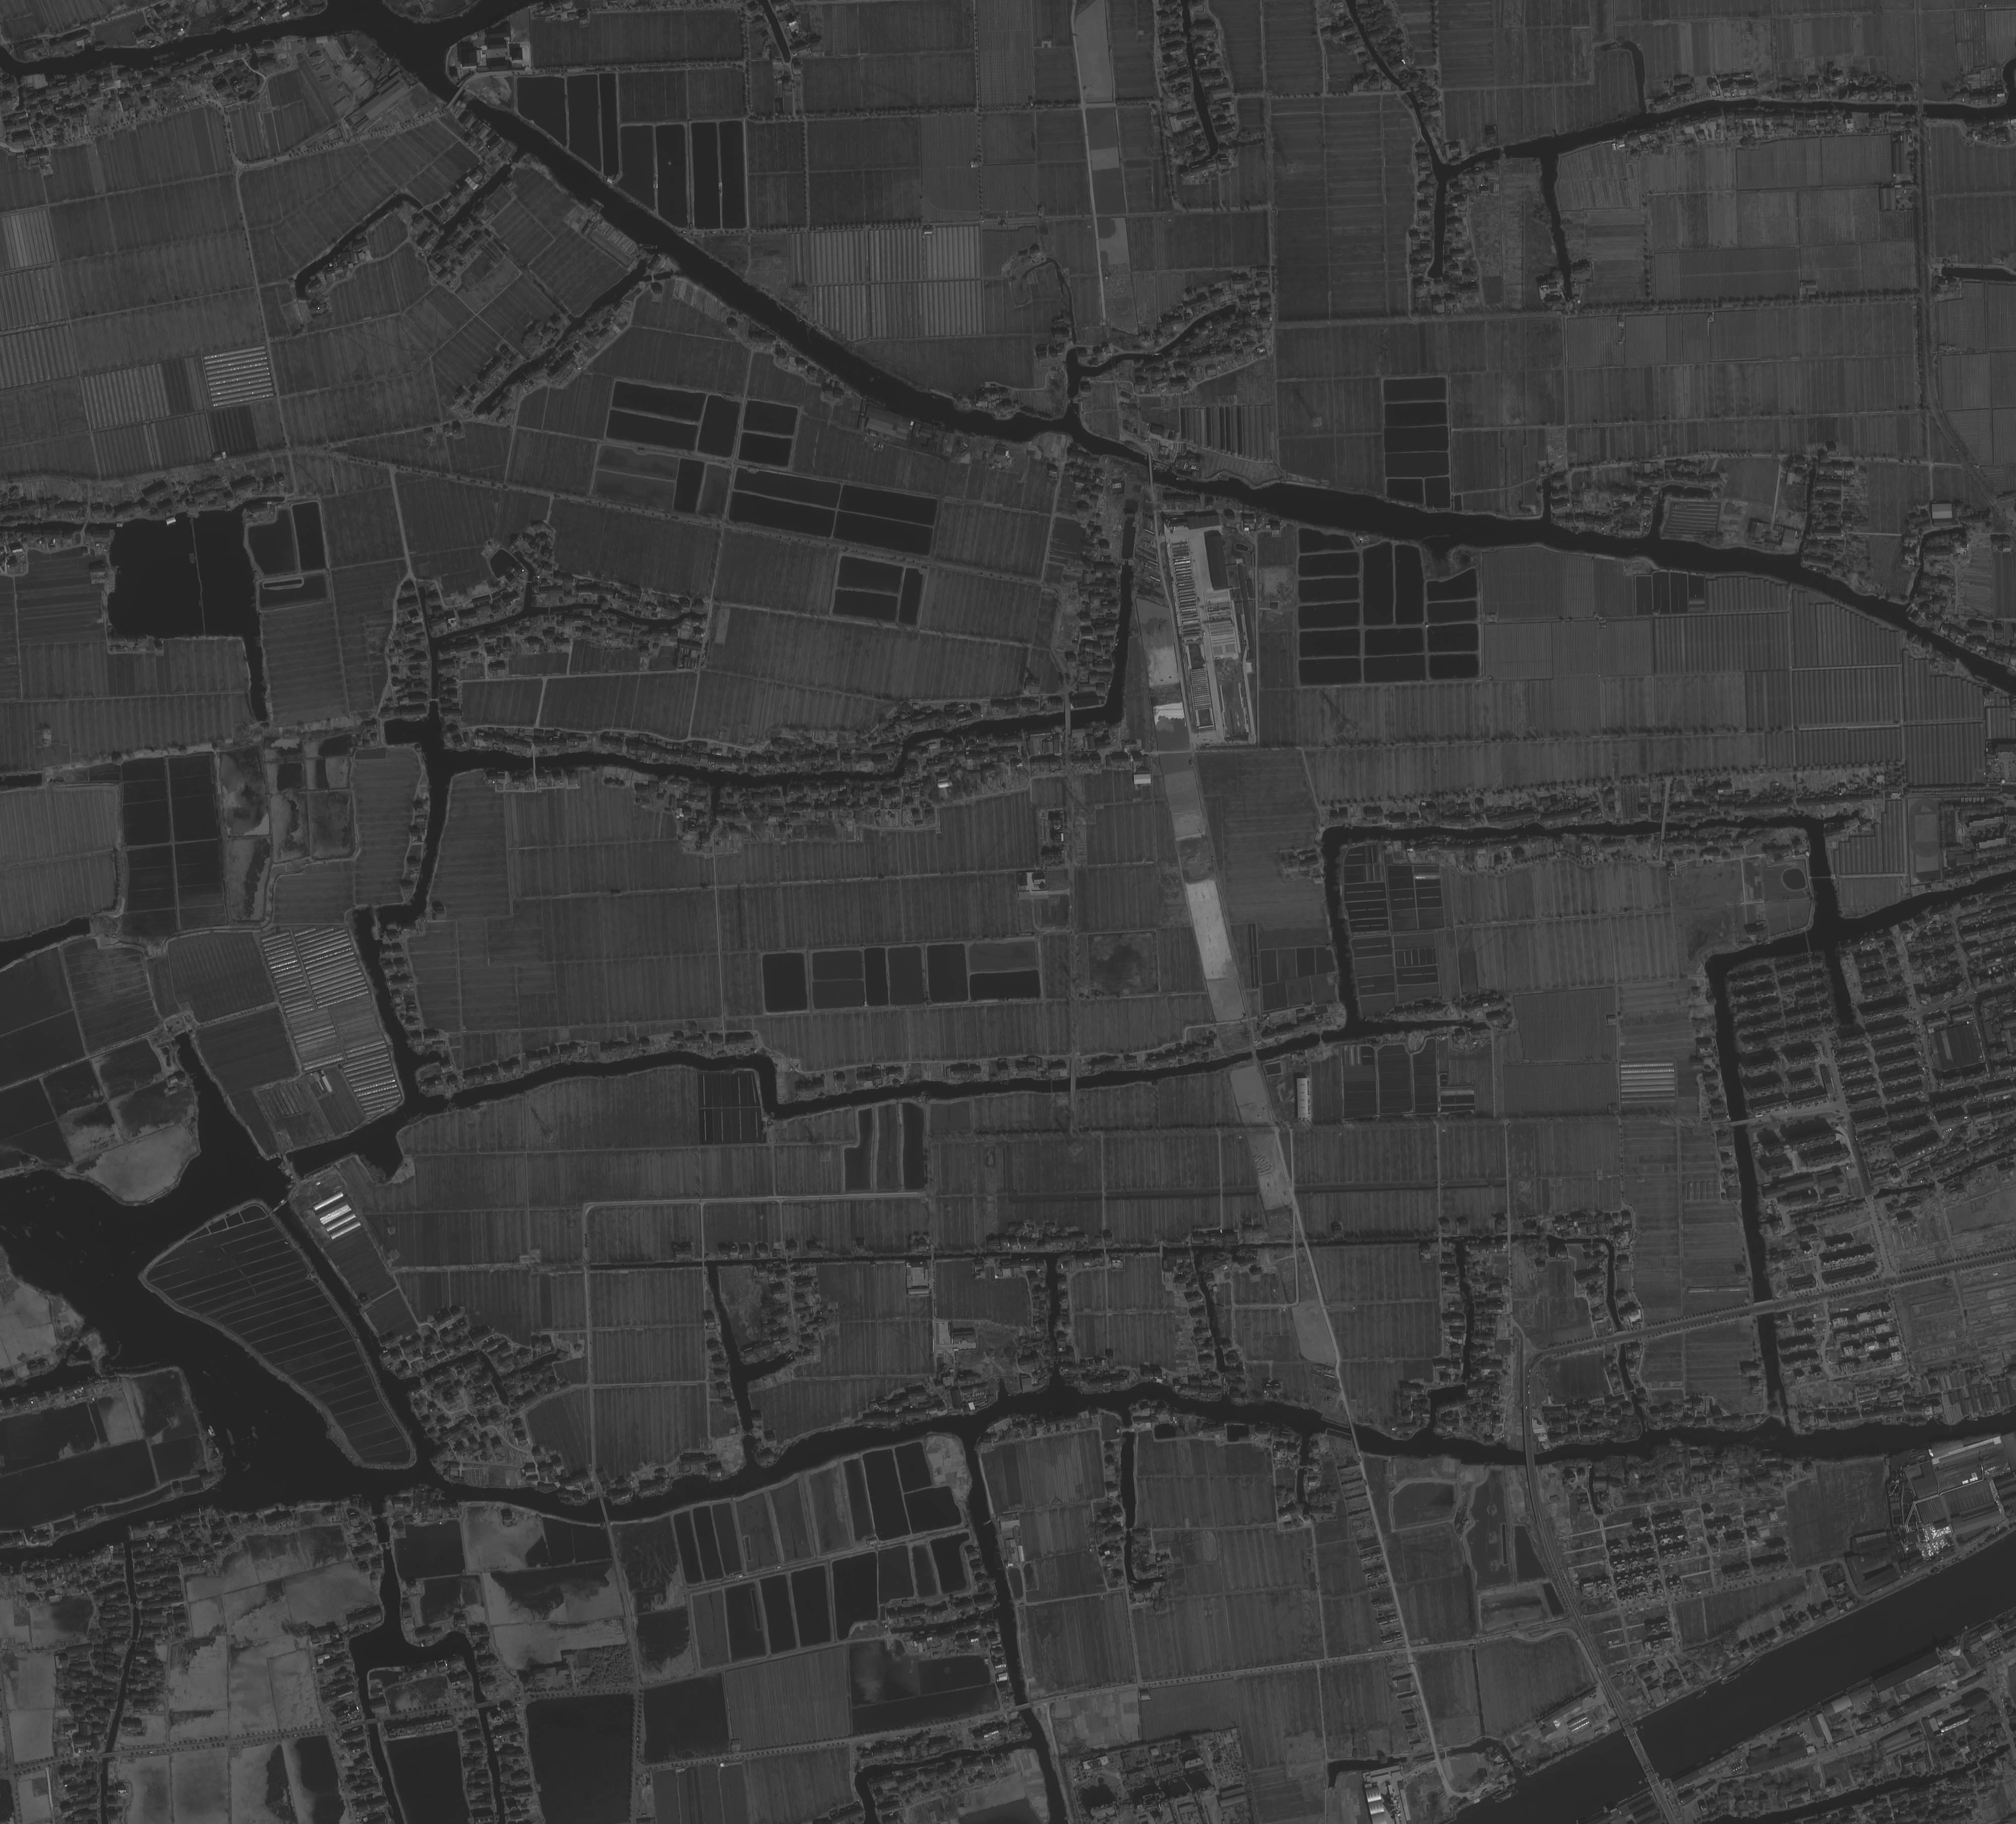bridge: (1621, 1722, 1661, 1787), (1347, 1420, 1361, 1454), (1753, 1299, 1777, 1317), (448, 86, 465, 107), (599, 1496, 611, 1526), (1524, 1447, 1537, 1469), (1742, 1659, 1760, 1675), (1721, 1673, 1742, 1685), (1147, 455, 1156, 483), (1017, 1701, 1033, 1712), (476, 1701, 492, 1710), (371, 1512, 386, 1520), (1064, 711, 1071, 729), (1660, 818, 1667, 836), (1732, 1120, 1749, 1127), (100, 1752, 116, 1759), (365, 1717, 378, 1726), (1695, 1691, 1707, 1699), (1918, 102, 1925, 116), (1071, 1080, 1076, 1090), (1401, 90, 1412, 95), (534, 757, 536, 769)
ship: (1494, 1789, 1521, 1803)
